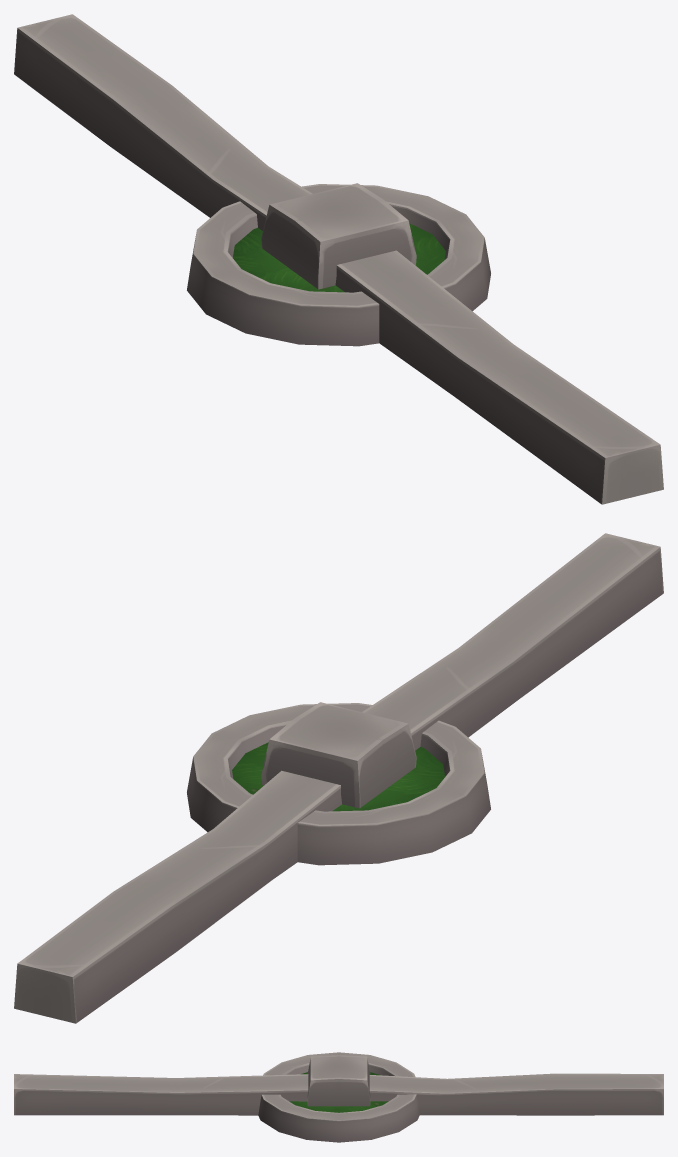
The model's file is road_borders.fbx.
3 renders of one model, top to bottom at view 1: azimuth 30°, elevation 25°; view 2: azimuth 150°, elevation 25°; view 3: azimuth 270°, elevation 25°, orthographic. The views are drawn at different scales.
Parts seen in each view (by area): view 1: road_border_01, road_border_03, road_border_02; view 2: road_border_01, road_border_03, road_border_02; view 3: road_border_01, road_border_03, road_border_02.
Part boxes in pixels (box(x1,y1,x2,y2)): road_border_01: box(14, 14, 663, 504); road_border_03: box(187, 184, 490, 346); road_border_02: box(261, 183, 416, 289); road_border_01: box(14, 533, 663, 1023); road_border_03: box(187, 703, 490, 865); road_border_02: box(261, 702, 416, 808); road_border_01: box(14, 1073, 663, 1115); road_border_03: box(258, 1052, 419, 1142); road_border_02: box(307, 1055, 370, 1106).
Bounding box in the file's own units: 2.09 × 0.5401 × 8.
